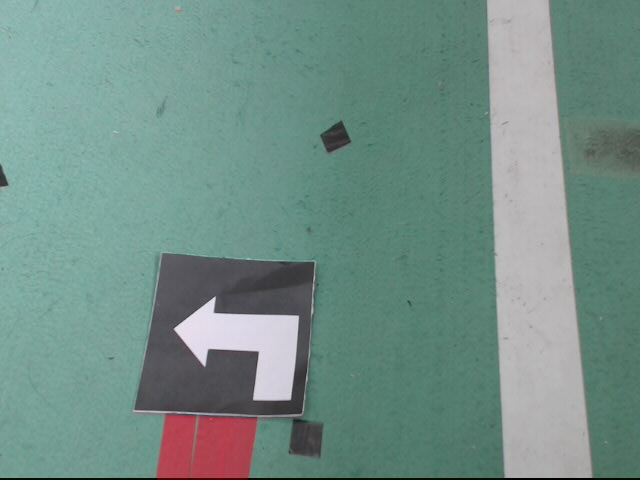left: (133, 251, 317, 416)
